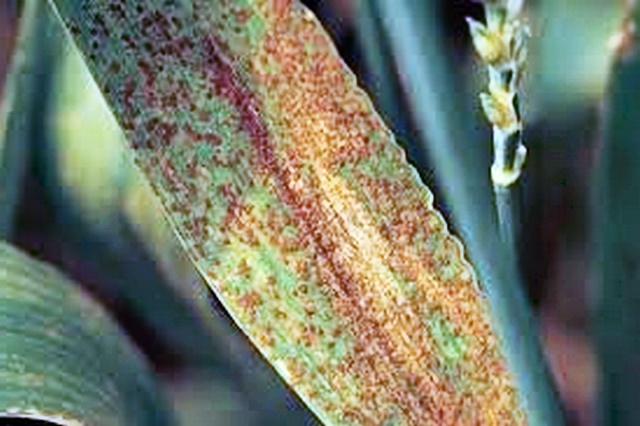Leaf Rust: (153, 42, 476, 409)
